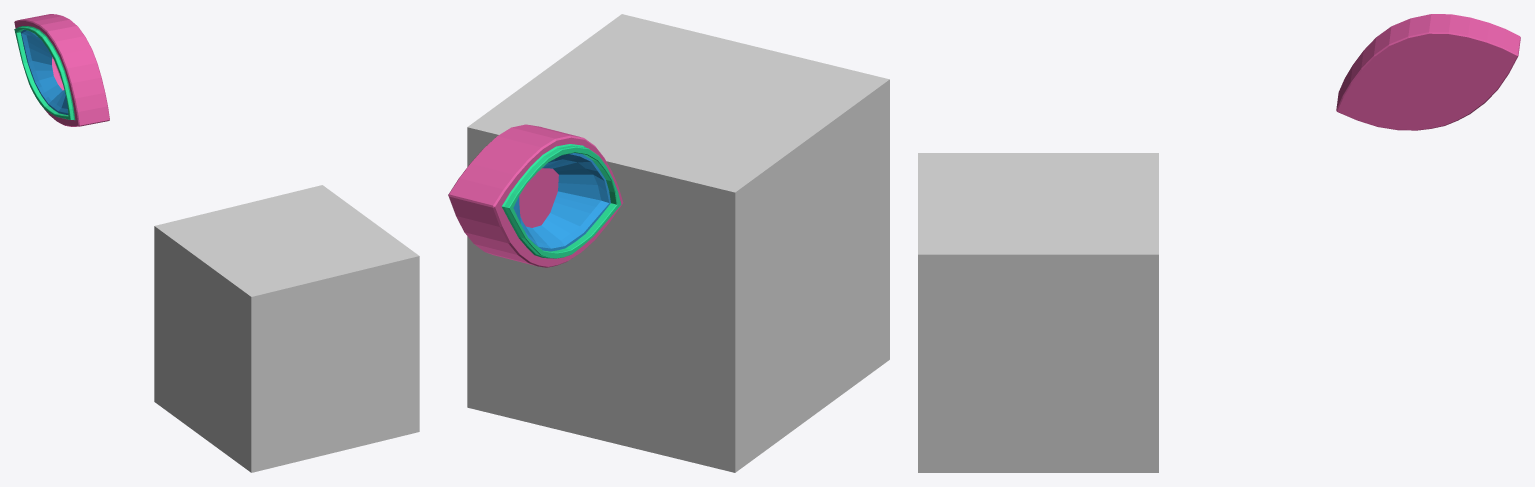
The model's file is N_Leye_Spite.fbx.
3 views of the same model, side by side, from view 1: azimuth 30°, elevation 25°; view 2: azimuth 150°, elevation 25°; view 3: azimuth 270°, elevation 25° (orthographic). The views are drawn at different scales.
Visible parts, largest first — view 1: Cube, eye.001; view 2: Cube, eye.001; view 3: Cube, eye.001.
Boxes of the visible parts, bbox=[...] form: Cube: bbox=[154, 185, 419, 472]; eye.001: bbox=[14, 14, 109, 126]; Cube: bbox=[467, 14, 889, 472]; eye.001: bbox=[448, 124, 623, 267]; Cube: bbox=[918, 153, 1158, 472]; eye.001: bbox=[1336, 14, 1520, 130].
Size of the model in its own units: 207 by 329 by 500.
